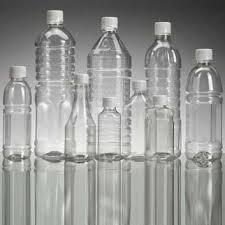Plastic bottle: (83, 9, 127, 170), (32, 6, 72, 160), (138, 16, 178, 155), (112, 77, 154, 171), (58, 72, 94, 173), (4, 61, 36, 171)
